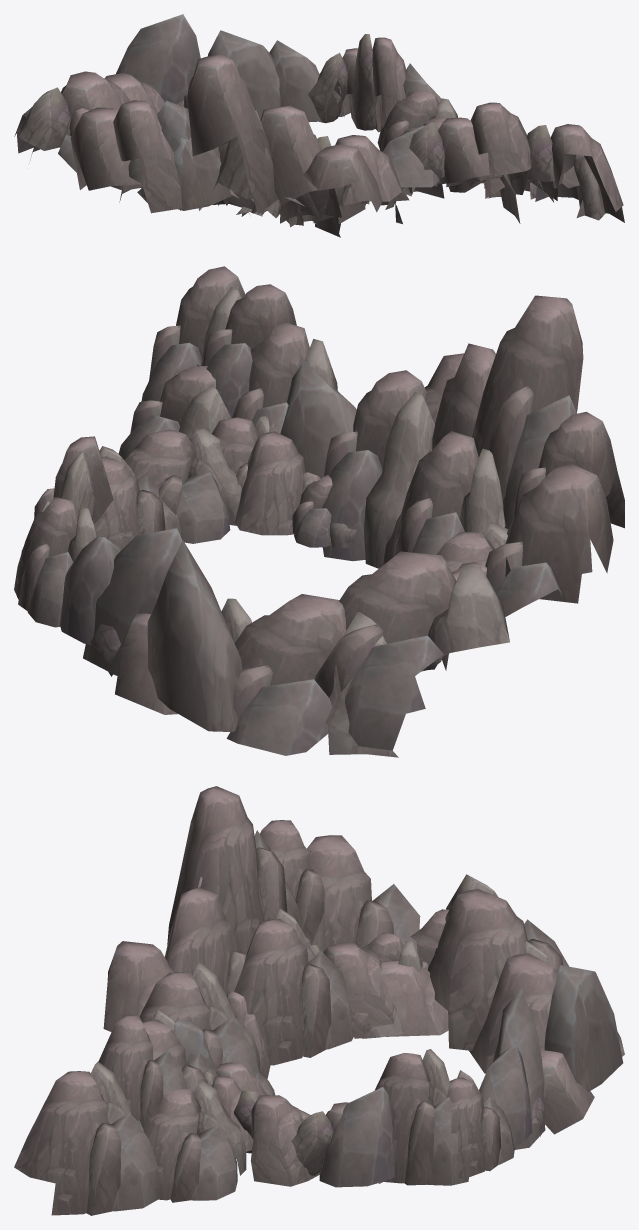
Rendered from area_04_4.FBX.
The picture shows the model from 3 angles, top to bottom: view 1: azimuth 30°, elevation 25°; view 2: azimuth 150°, elevation 25°; view 3: azimuth 270°, elevation 25°; orthographic projection. The views are drawn at different scales.
Parts seen in each view (by area): view 1: area_04_4; view 2: area_04_4; view 3: area_04_4.
Boxes of the visible parts, <box> form: area_04_4: <box>14,14,624,237</box>; area_04_4: <box>14,266,624,757</box>; area_04_4: <box>14,786,624,1215</box>.
Size of the model in its own units: 103 by 49.51 by 109.
